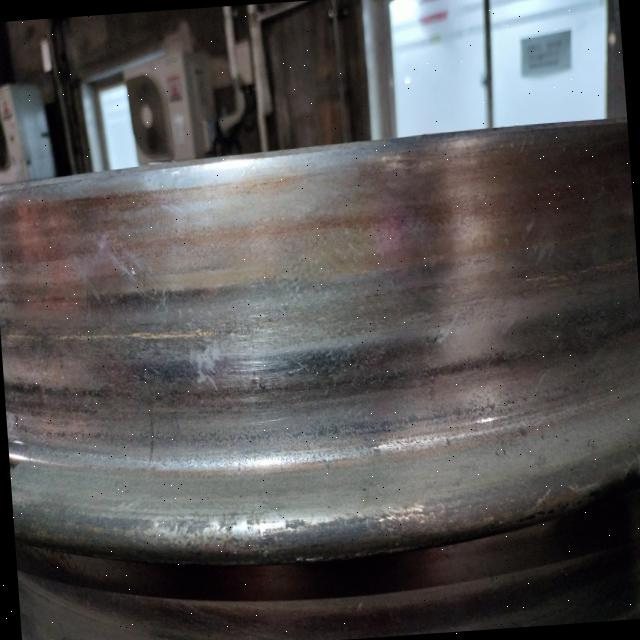Contact_Fatigue_Cracks: (1, 300, 234, 375), (506, 252, 640, 295)
